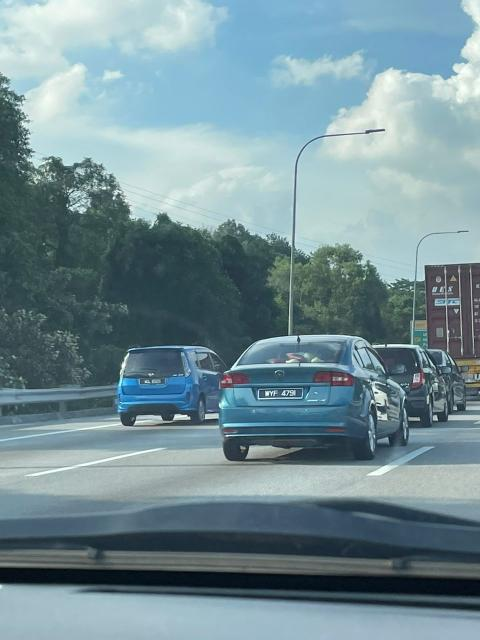License_Plate: (259, 386, 305, 403)
